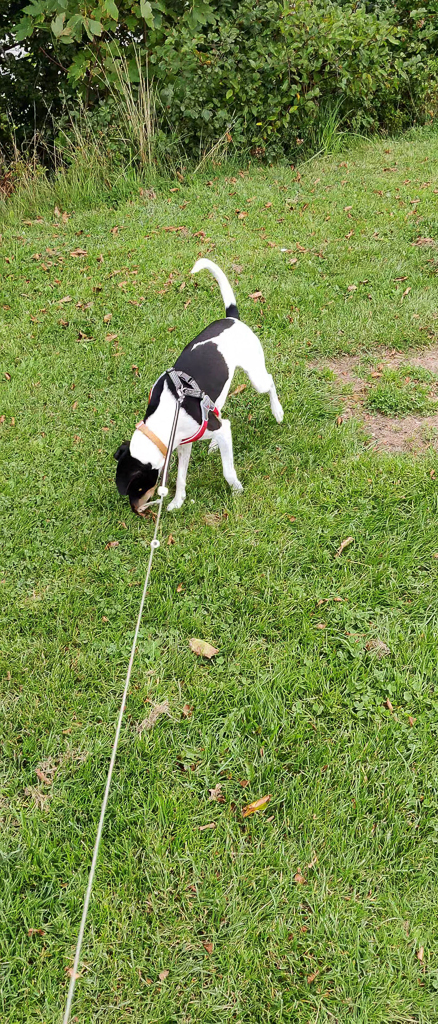Dog: (103, 242, 292, 539)
